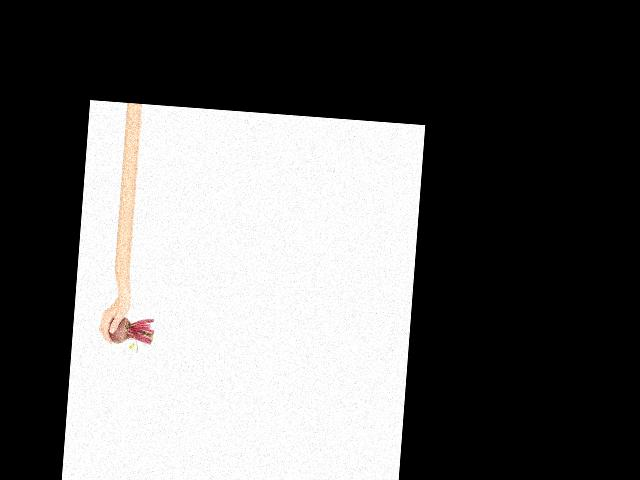beet: (106, 316, 155, 354)
